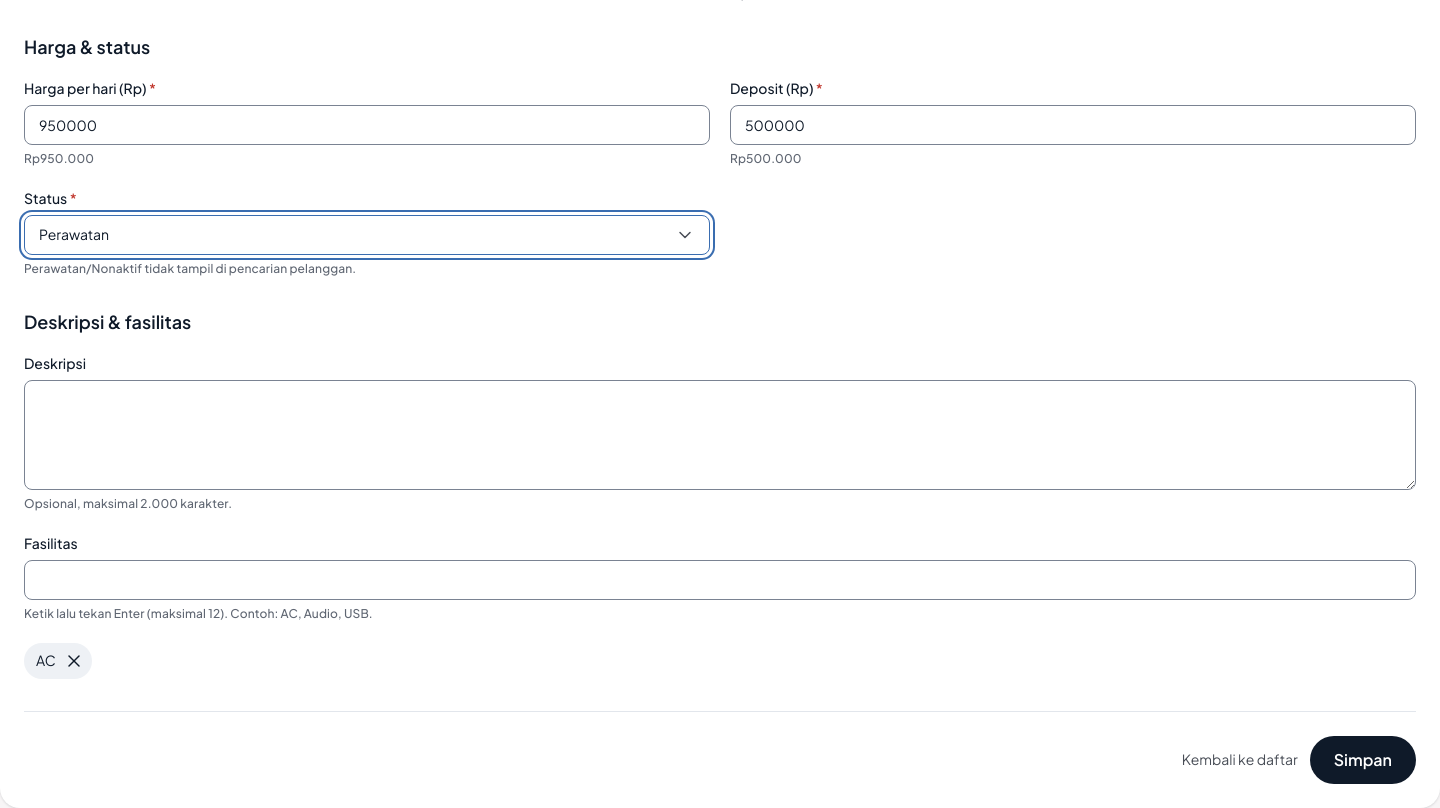
Test: CarEditor — edit › asks for a reason and force-cancels blocking bookings
Earlier steps of the test are not shown.
(page scrolled)
Step 1. Click the button "Simpan" → (1363, 760), box x1=1310 y1=736 x2=1416 y2=784
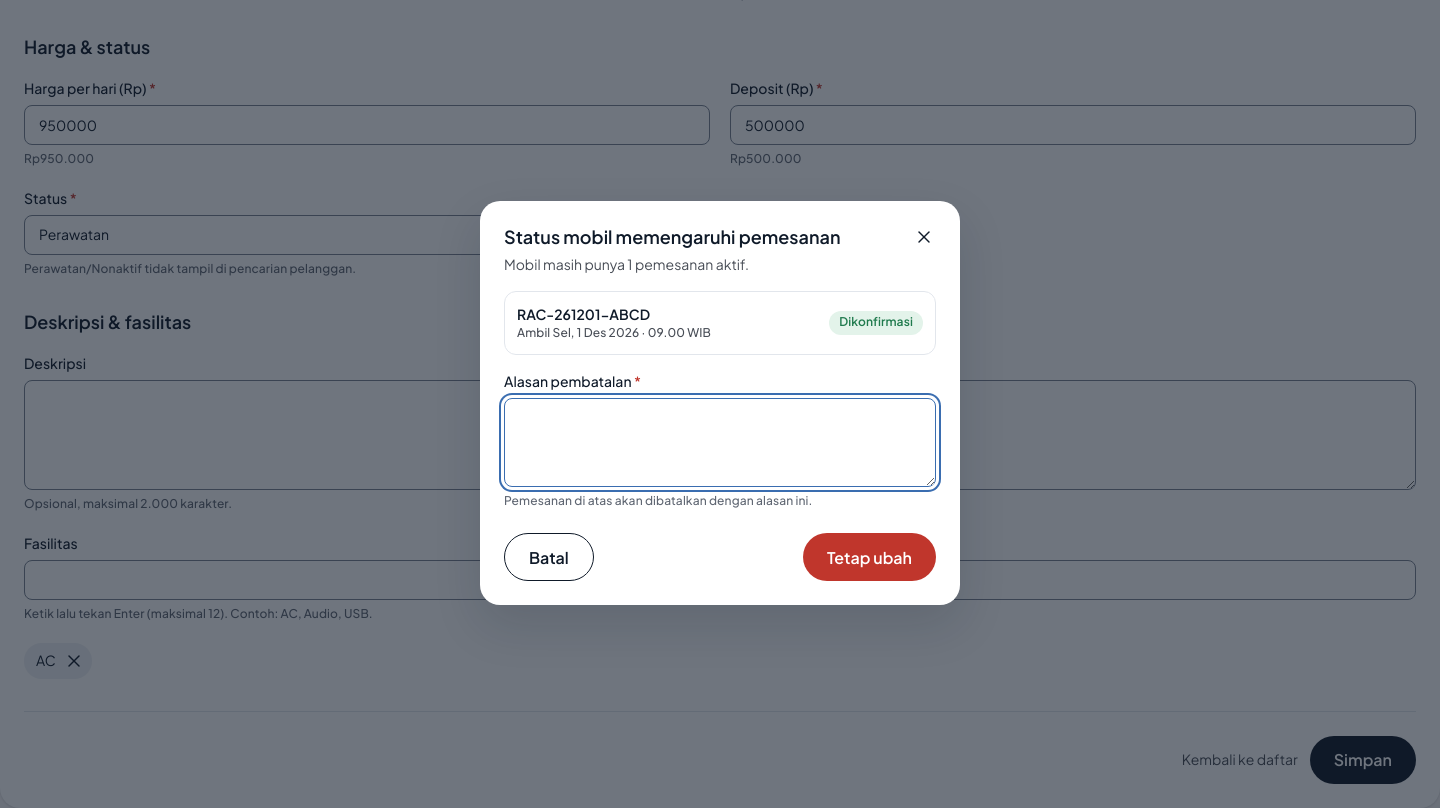
Expected: the text "RAC-261201-ABCD" is shown, x1=517 y1=305 x2=650 y2=323
Expected: the text "Ambil Sel, 1 Des 2026 · 09.00 WIB" is shown, x1=517 y1=325 x2=711 y2=342
Expected: the text "Dikonfirmasi" is shown, x1=829 y1=311 x2=923 y2=335
Step 2. Click the button "Tetap ubah" → (869, 558), box x1=803 y1=534 x2=936 y2=582
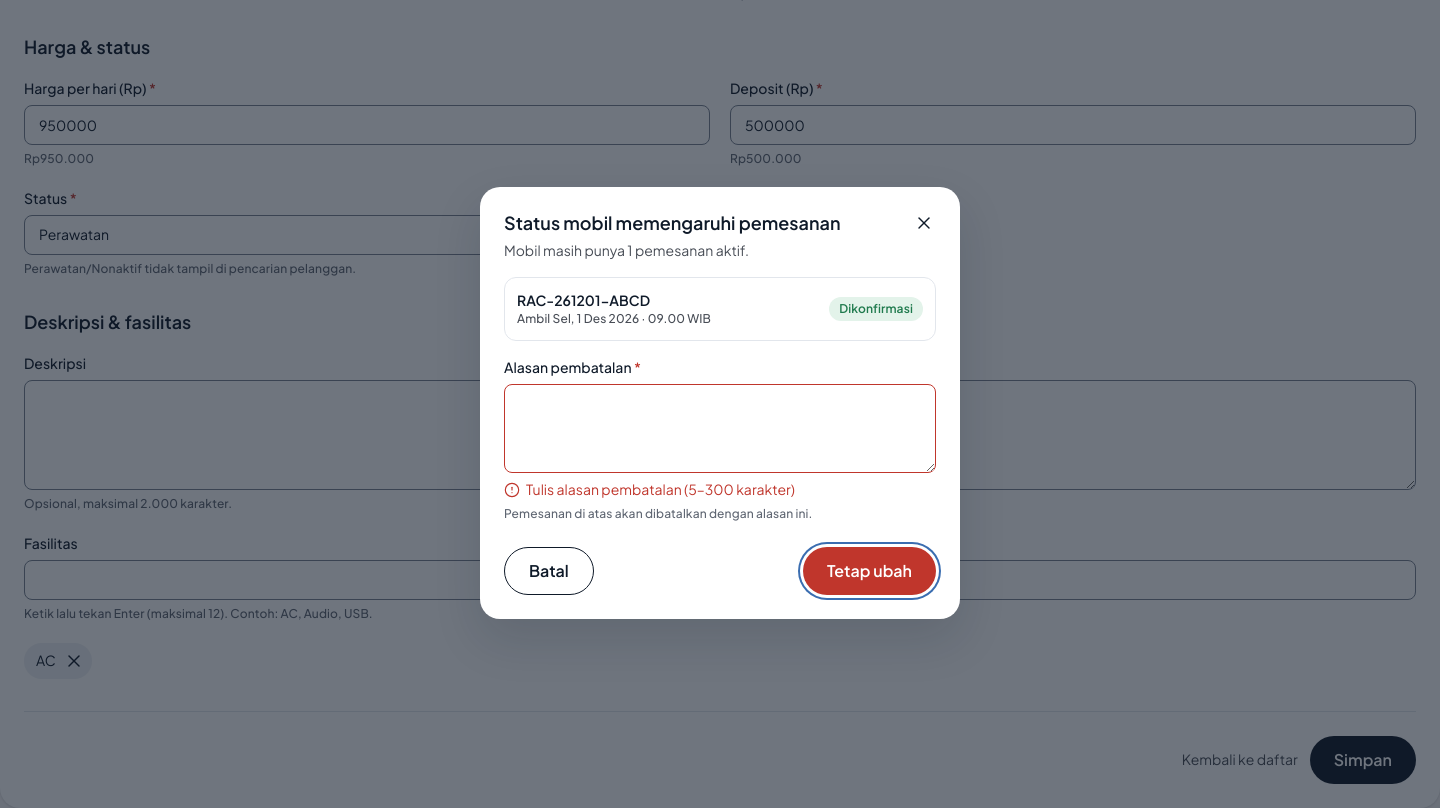
Expected: the text "Tulis alasan pembatalan (5–300 karakter)" is shown, x1=504 y1=480 x2=795 y2=498
Step 3. Type "Mobil masuk bengkel" into the text box labelled "Alasan pembatalan *" → (720, 429), box x1=504 y1=384 x2=936 y2=473
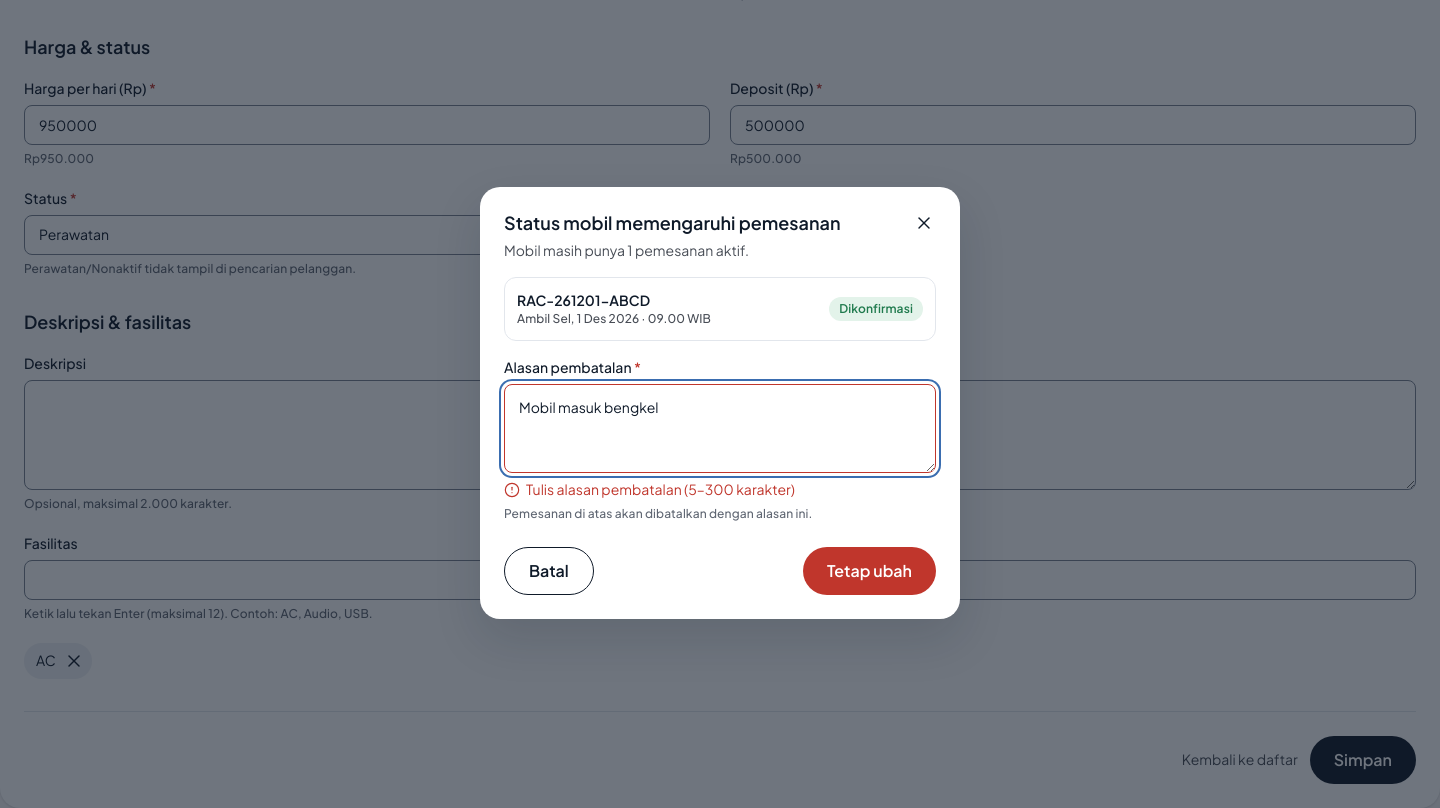
Step 4. Click the button "Tetap ubah" → (869, 571), box x1=803 y1=547 x2=936 y2=595
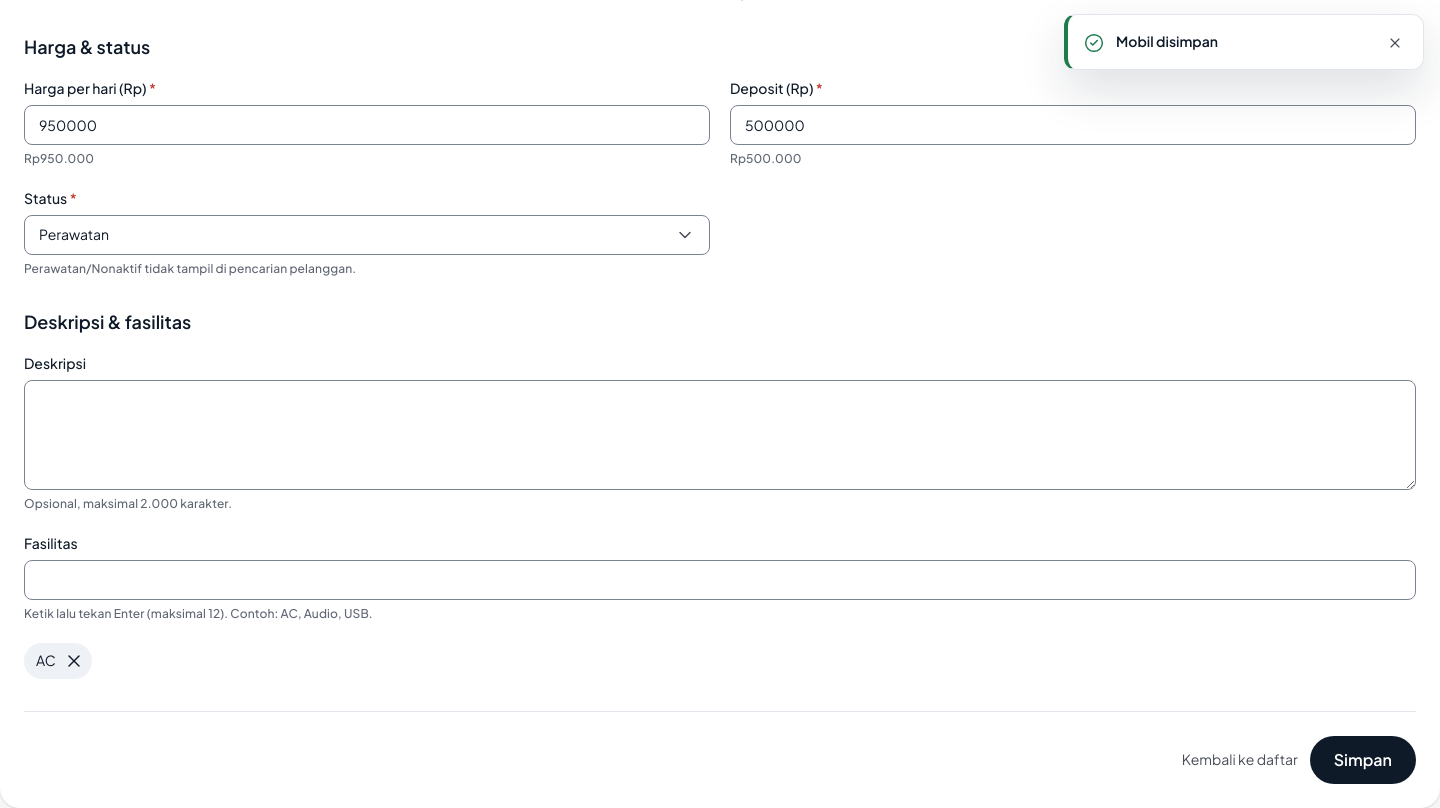
Expected: the text "Mobil disimpan" is shown, x1=1116 y1=31 x2=1218 y2=52
